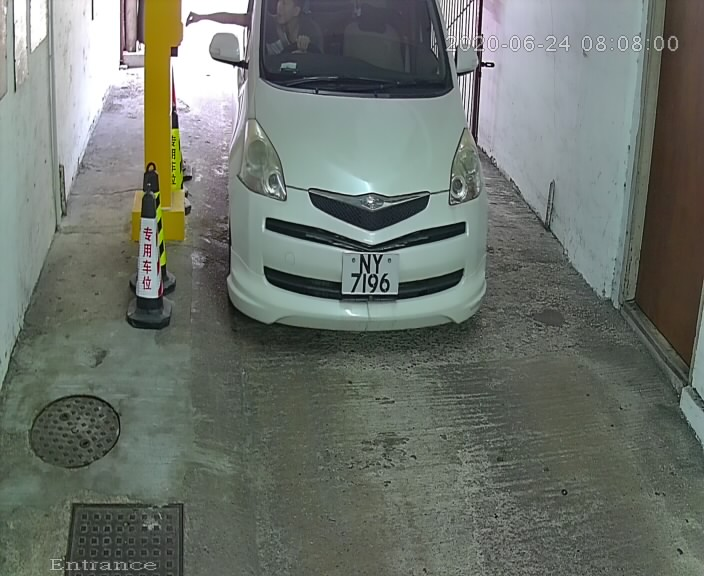privatecar: (194, 1, 531, 364)
